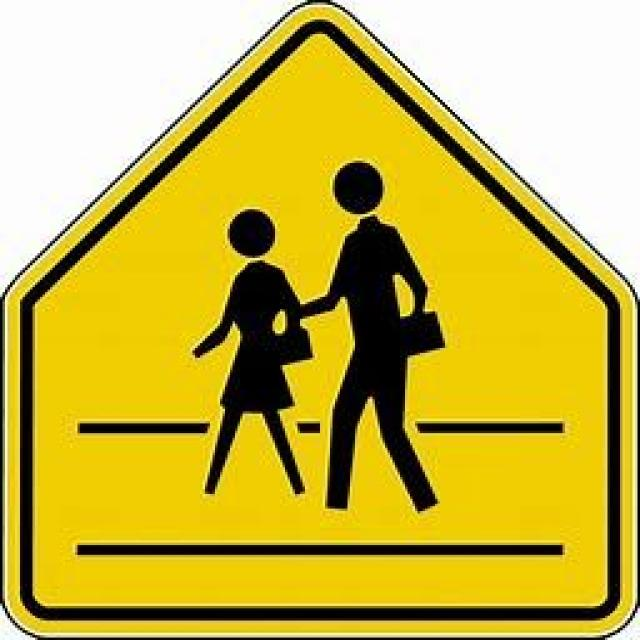SCHOOL_AHEAD: (0, 0, 638, 638)
